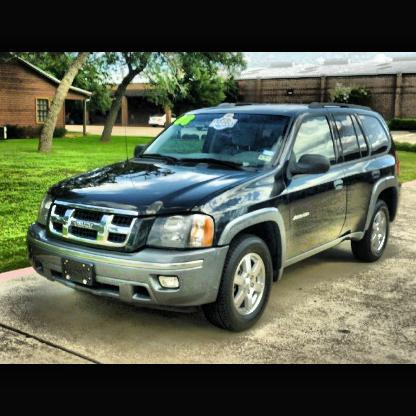Isuzu Ascender SUV 2008: (24, 105, 404, 339)
